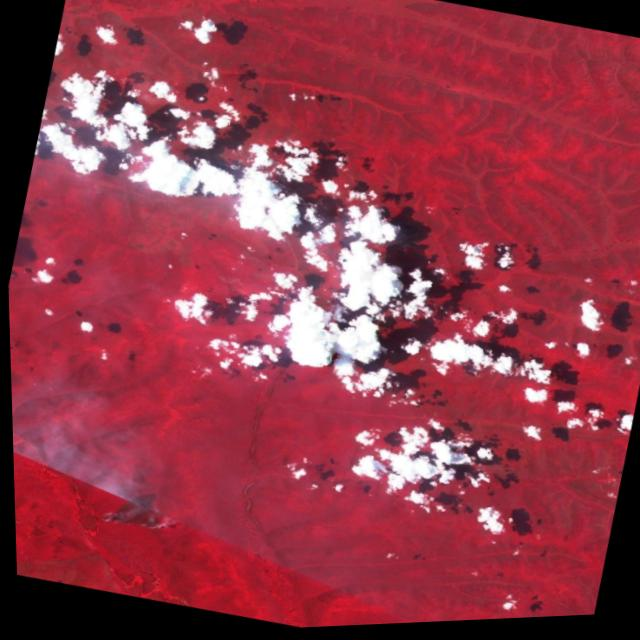fire: (96, 487, 176, 541), (375, 218, 430, 260)
